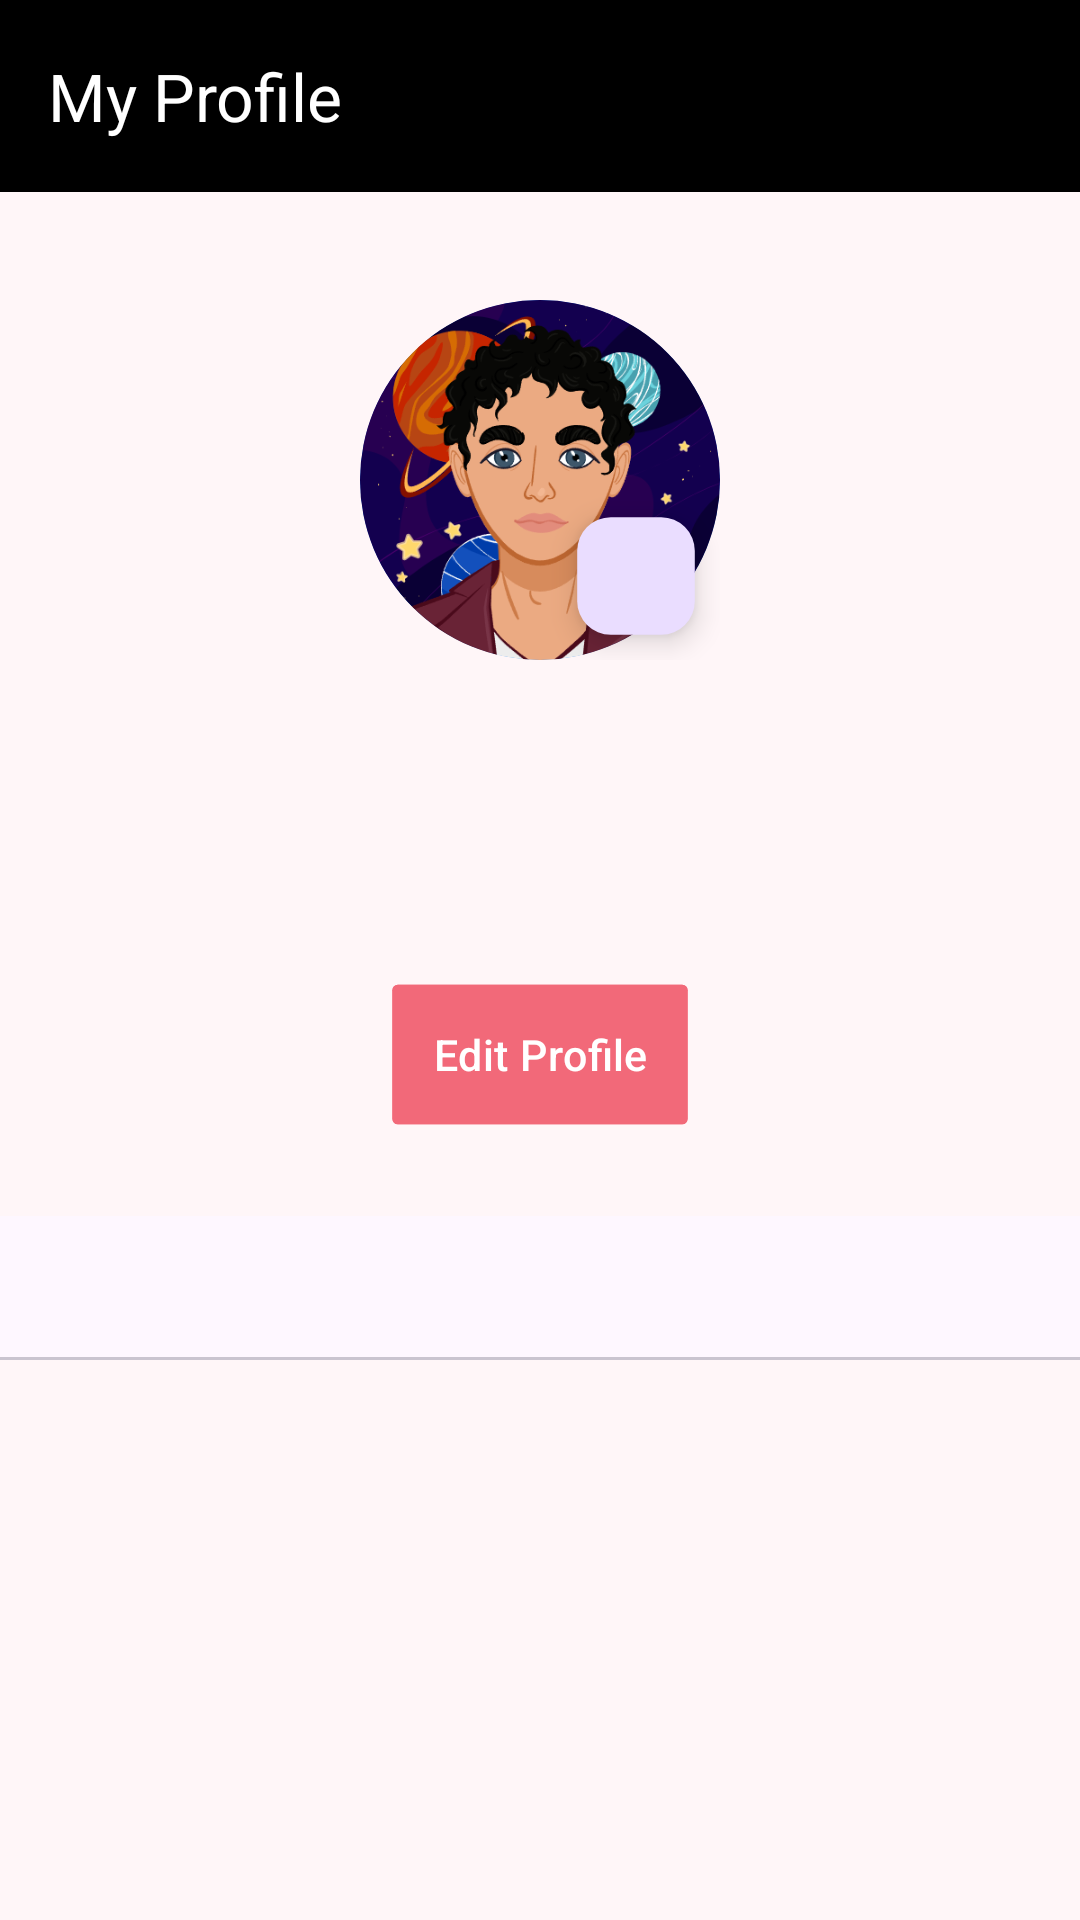

Screen size 1080x1920. Icon name, then its center in pixels as (x,y):
Profile Picture: (540,480)
